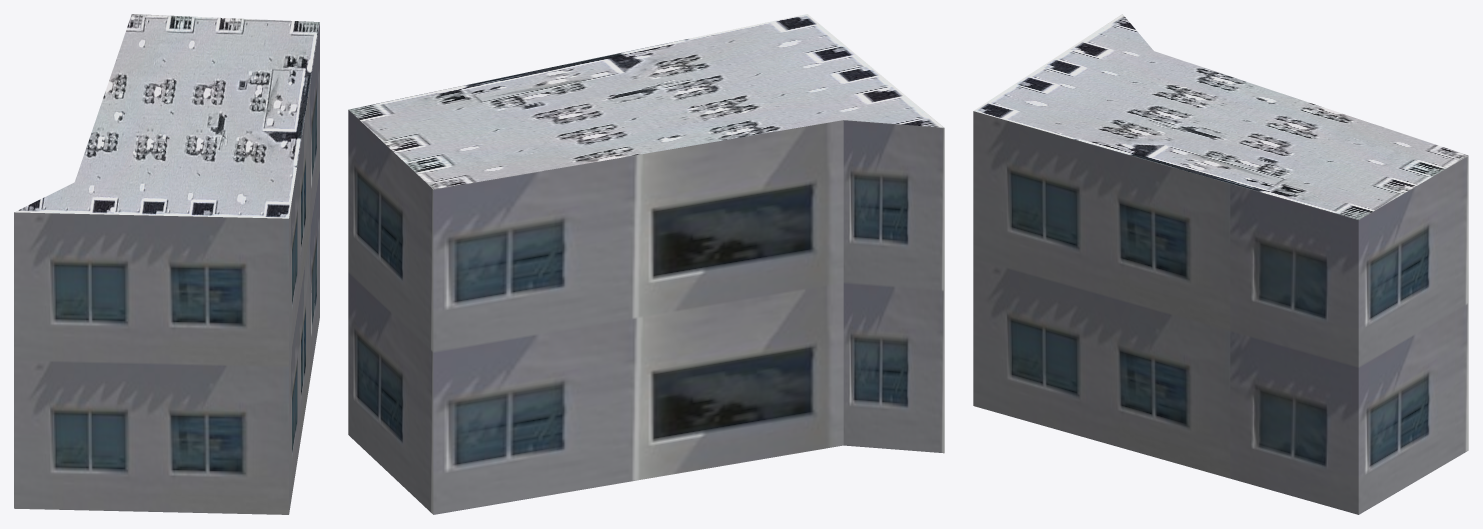
File: ResTex__980.fbx
3 views of the same model, side by side, from view 1: azimuth 30°, elevation 25°; view 2: azimuth 150°, elevation 25°; view 3: azimuth 270°, elevation 25° (orthographic). The views are drawn at different scales.
Visible parts, largest first — view 1: CityEngineMaterial_10_m, CityEngineMaterial_m; view 2: CityEngineMaterial_10_m, CityEngineMaterial_m; view 3: CityEngineMaterial_10_m, CityEngineMaterial_m.
Boxes of the visible parts, x1,y1,x2,y2 form: CityEngineMaterial_10_m: (14, 22, 319, 514); CityEngineMaterial_m: (15, 14, 319, 218); CityEngineMaterial_10_m: (348, 110, 944, 514); CityEngineMaterial_m: (348, 14, 944, 189); CityEngineMaterial_10_m: (973, 111, 1468, 514); CityEngineMaterial_m: (974, 14, 1468, 219).
Size of the model in its own units: 8.99 by 6 by 9.14.
Materials: 2 (2 with a texture image).
